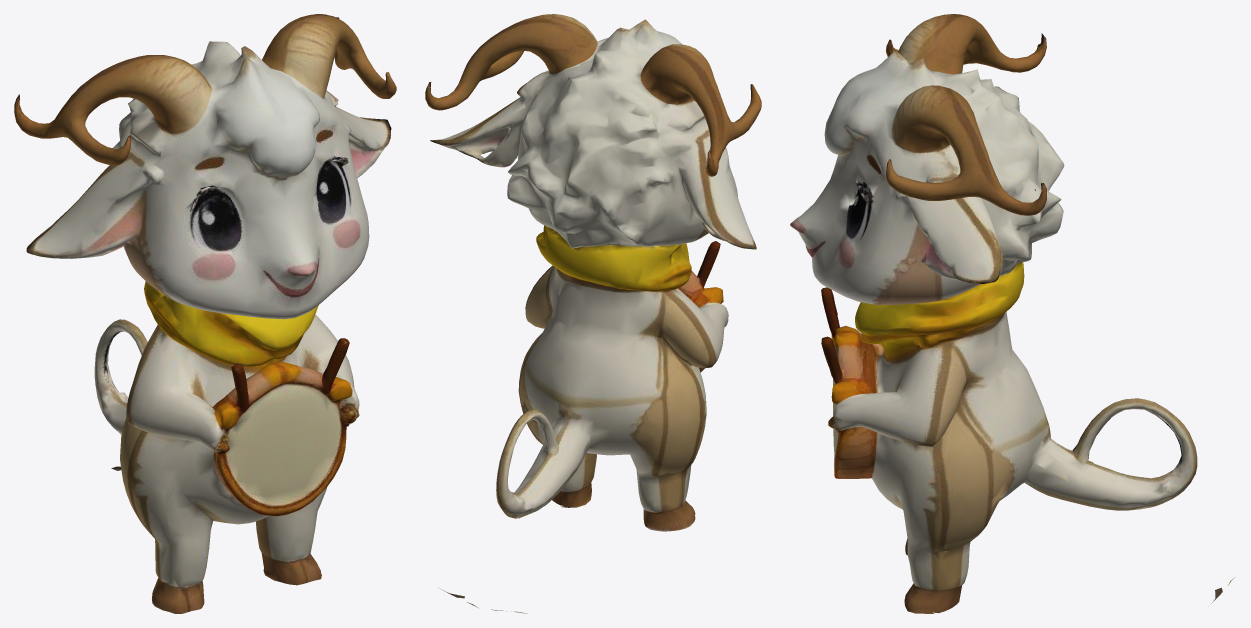
File: gumbur.glb
The picture shows the model from 3 angles, left to right: view 1: azimuth 30°, elevation 25°; view 2: azimuth 150°, elevation 25°; view 3: azimuth 270°, elevation 25°; orthographic projection. The views are drawn at different scales.
Parts seen in each view (by area): view 1: world_1; view 2: world_1; view 3: world_1.
Part boxes in pixels (box(x1,y1,x2,y2)): world_1: box(14, 14, 396, 613); world_1: box(425, 14, 761, 613); world_1: box(790, 14, 1234, 613).
Size of the model in its own units: 0.6458 by 0.9176 by 0.7115.
1 material, 1 textured.
